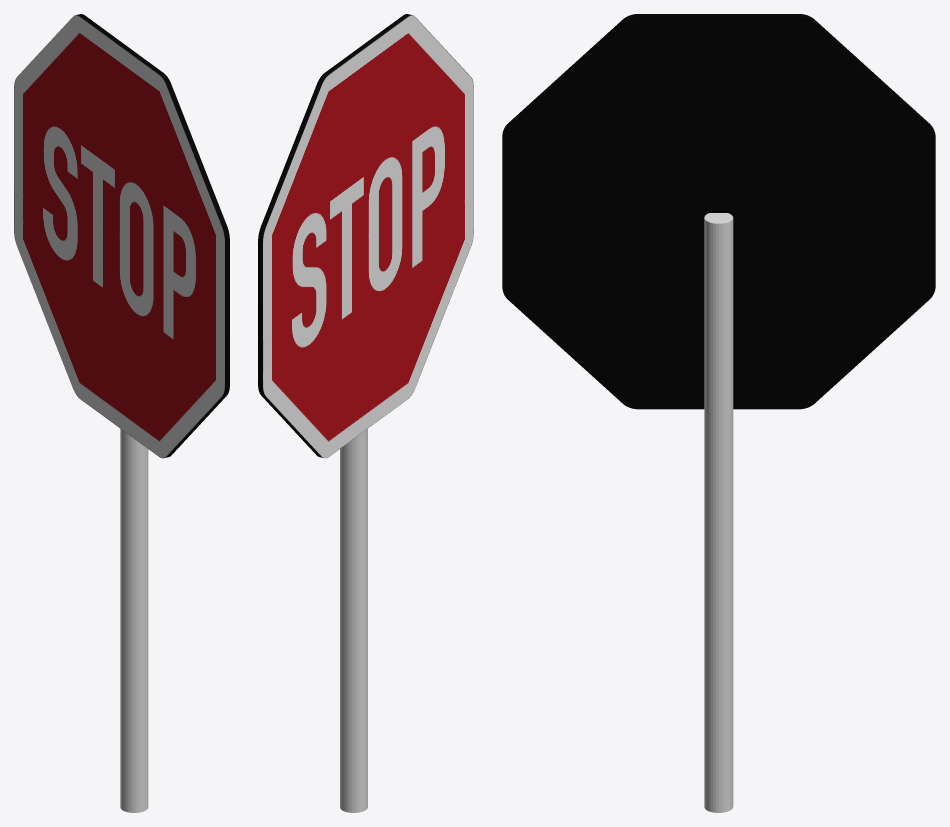
Rendered from stop_sign.dae.
3 views of the same model, side by side, from view 1: azimuth 30°, elevation 25°; view 2: azimuth 150°, elevation 25°; view 3: azimuth 270°, elevation 25° (orthographic). The views are drawn at different scales.
Visible parts, largest first — view 1: path6612, Cylinder; view 2: path6612, Cylinder; view 3: path6612, Cylinder.
Boxes of the visible parts, bbox=[...] form: path6612: bbox=[14, 14, 229, 458]; Cylinder: bbox=[120, 429, 148, 812]; path6612: bbox=[258, 14, 473, 458]; Cylinder: bbox=[340, 429, 367, 812]; path6612: bbox=[502, 14, 935, 409]; Cylinder: bbox=[704, 213, 733, 812].
Bounding box in the file's own units: 0.011 × 0.15 × 0.3.
Materials: 3 (2 with a texture image).
